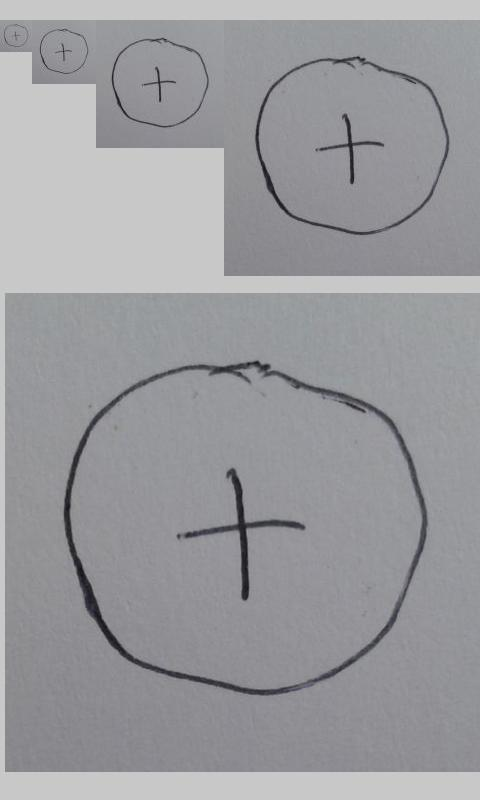button: (63, 359, 430, 700), (253, 55, 452, 237), (111, 37, 209, 129), (39, 28, 89, 75), (3, 24, 29, 48)
